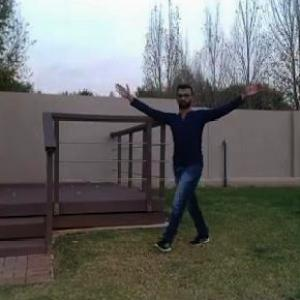takeoff: (120, 87, 260, 252)
